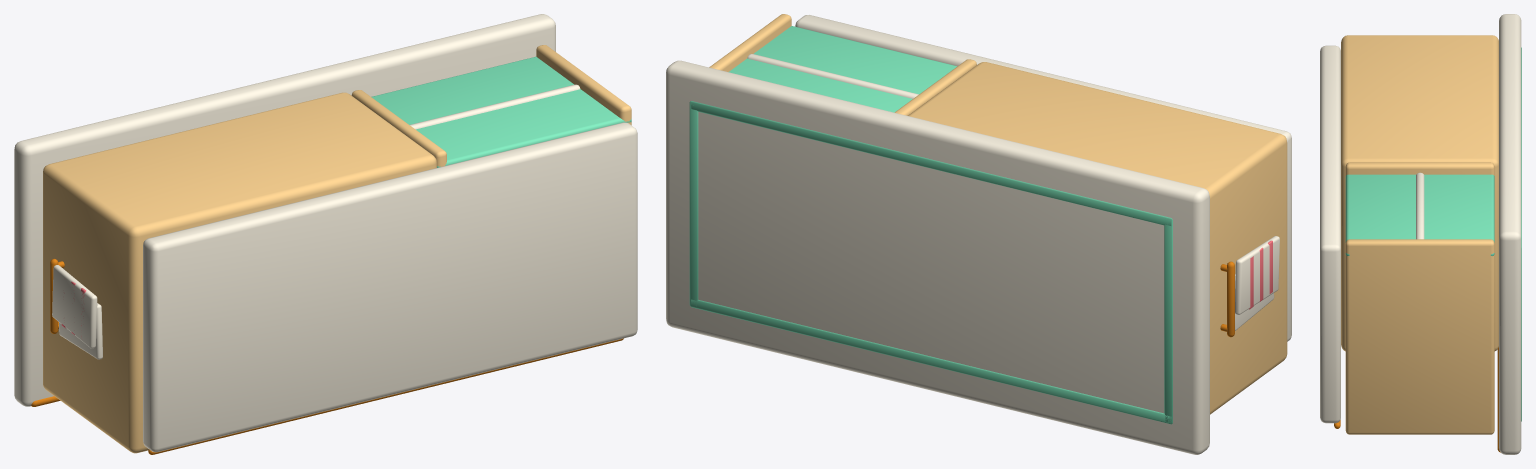
File: KitchenIsland_Premium.fbx
3 views of the same model, side by side, from view 1: azimuth 30°, elevation 25°; view 2: azimuth 150°, elevation 25°; view 3: azimuth 270°, elevation 25° (orthographic). The views are drawn at different scales.
Parts seen in each view (by area): view 1: KitchenIsland; view 2: KitchenIsland; view 3: KitchenIsland.
Boxes of the visible parts, x1,y1,x2,y2 form: KitchenIsland: (14,14,637,454); KitchenIsland: (666,14,1291,454); KitchenIsland: (1320,14,1521,454).
Bounding box in the file's own units: 2.25 × 1.05 × 0.862.
